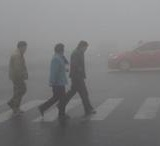person: (58, 39, 101, 117), (37, 41, 72, 120), (7, 39, 31, 115)
